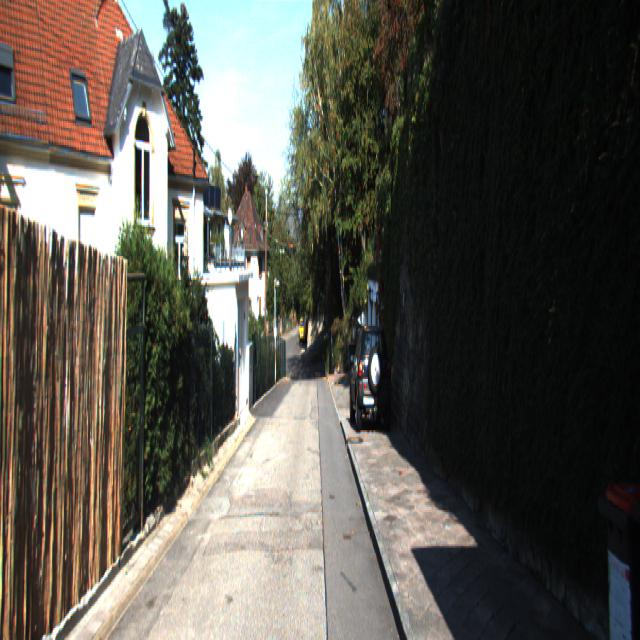Car: (348, 321, 392, 437)
